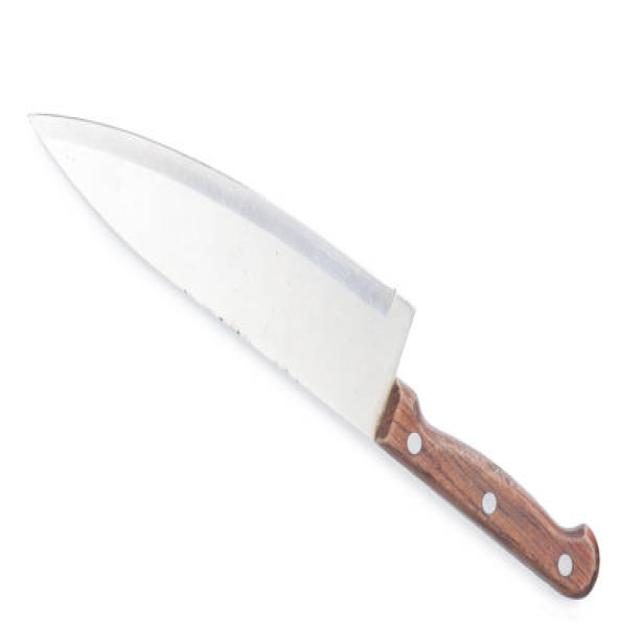knife: (26, 106, 603, 603)
